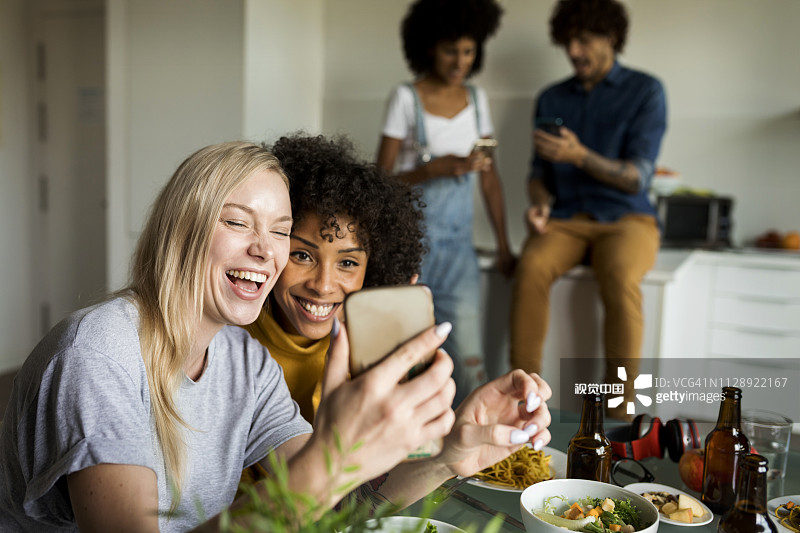no-phone: (443, 356, 582, 483)
taking photos: (298, 281, 474, 482)
